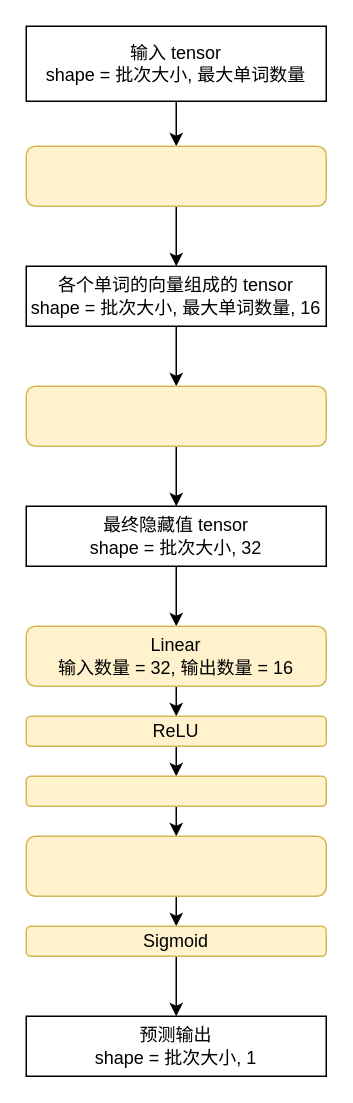
The diagram is 353 pixels wide and 1103 high, and some of its shapes have lost their labels. Each missing label, with the centre of its shape:
"Dropout (比率 = 0.2)" goes at point 175,790.
"Emedding 向量长度 = 16" goes at point 175,175.
"Linear 输入数量 = 16, 输出数量 = 1" goes at point 175,865.
"LSTM 输入数量 = 16, 隐藏值数量 = 32" goes at point 175,415.
